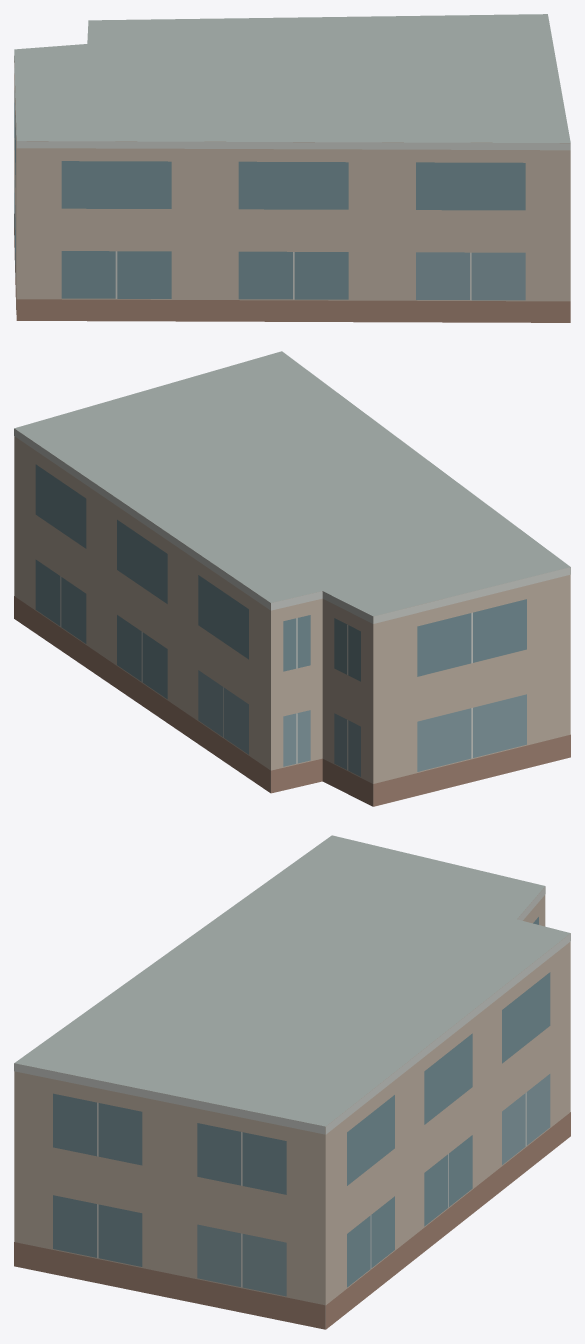
File: survey-upis-32980586.glb
The picture shows the model from 3 angles, top to bottom: view 1: azimuth 30°, elevation 25°; view 2: azimuth 150°, elevation 25°; view 3: azimuth 270°, elevation 25°; orthographic projection. The views are drawn at different scales.
Parts seen in each view (by area): view 1: survey-upis-32980586.tmp; view 2: survey-upis-32980586.tmp; view 3: survey-upis-32980586.tmp.
Part boxes in pixels (x1,y1,x2,y2): survey-upis-32980586.tmp: (14, 14, 570, 322); survey-upis-32980586.tmp: (14, 351, 570, 806); survey-upis-32980586.tmp: (14, 835, 570, 1329).
Bounding box in the file's own units: 18.78 × 6.1 × 15.16.
